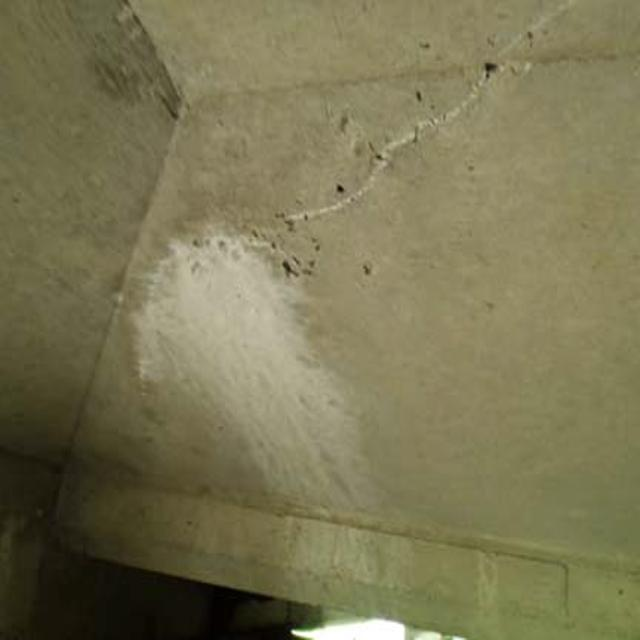freelime: (123, 227, 371, 536)
